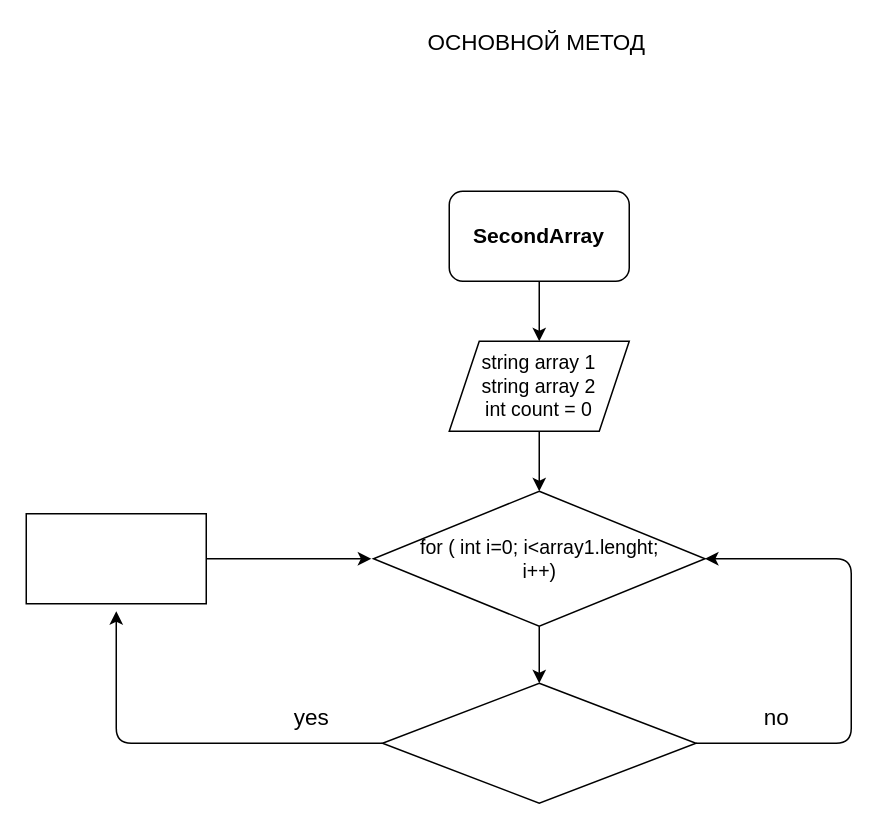
Image size: 890x830. Some labels were removed from this diagram. Here are the shapes that lost their labels. From the top down, the centre of each, then its label:
At point 115,558: "array2[count] = array1[i] count++".
At point 538,742: "if (array1[i].lenght<=3)".
